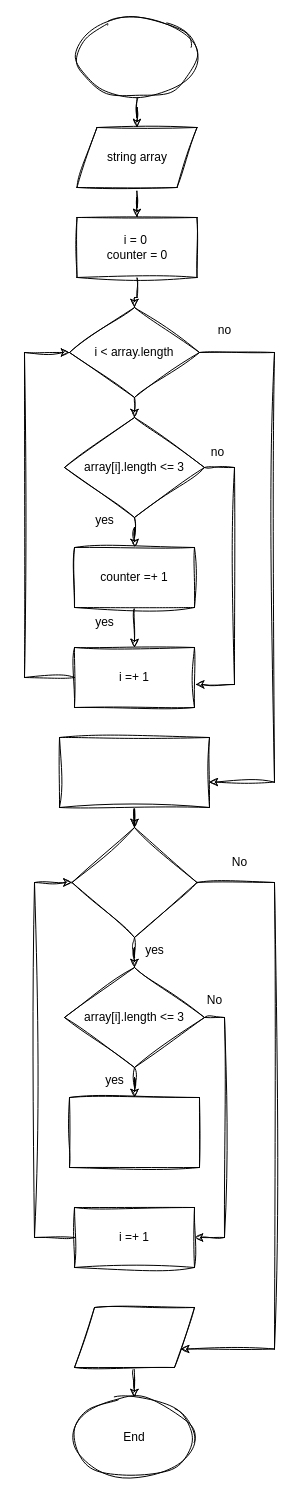
Image size: 300x1495. Some labels were removed from this diagram. The shapes that lost their labels are listed below. From the top down, each one's centre as x and y in pixels, then its label:
the point at 136,57: Start
the point at 134,772: Create resultArray[counter] j = 0 i = 0
the point at 134,882: i = array.length
the point at 134,1132: resultArray[j] = array[i] j =+ 1
the point at 134,1337: resultArray
